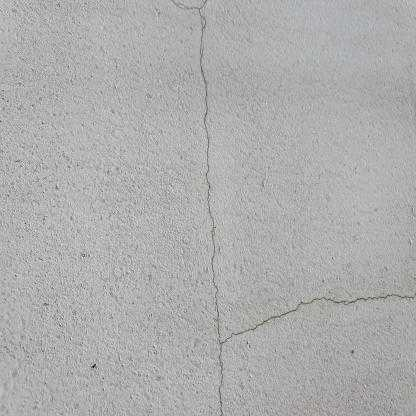crack: (172, 0, 343, 416), (205, 148, 343, 415)
